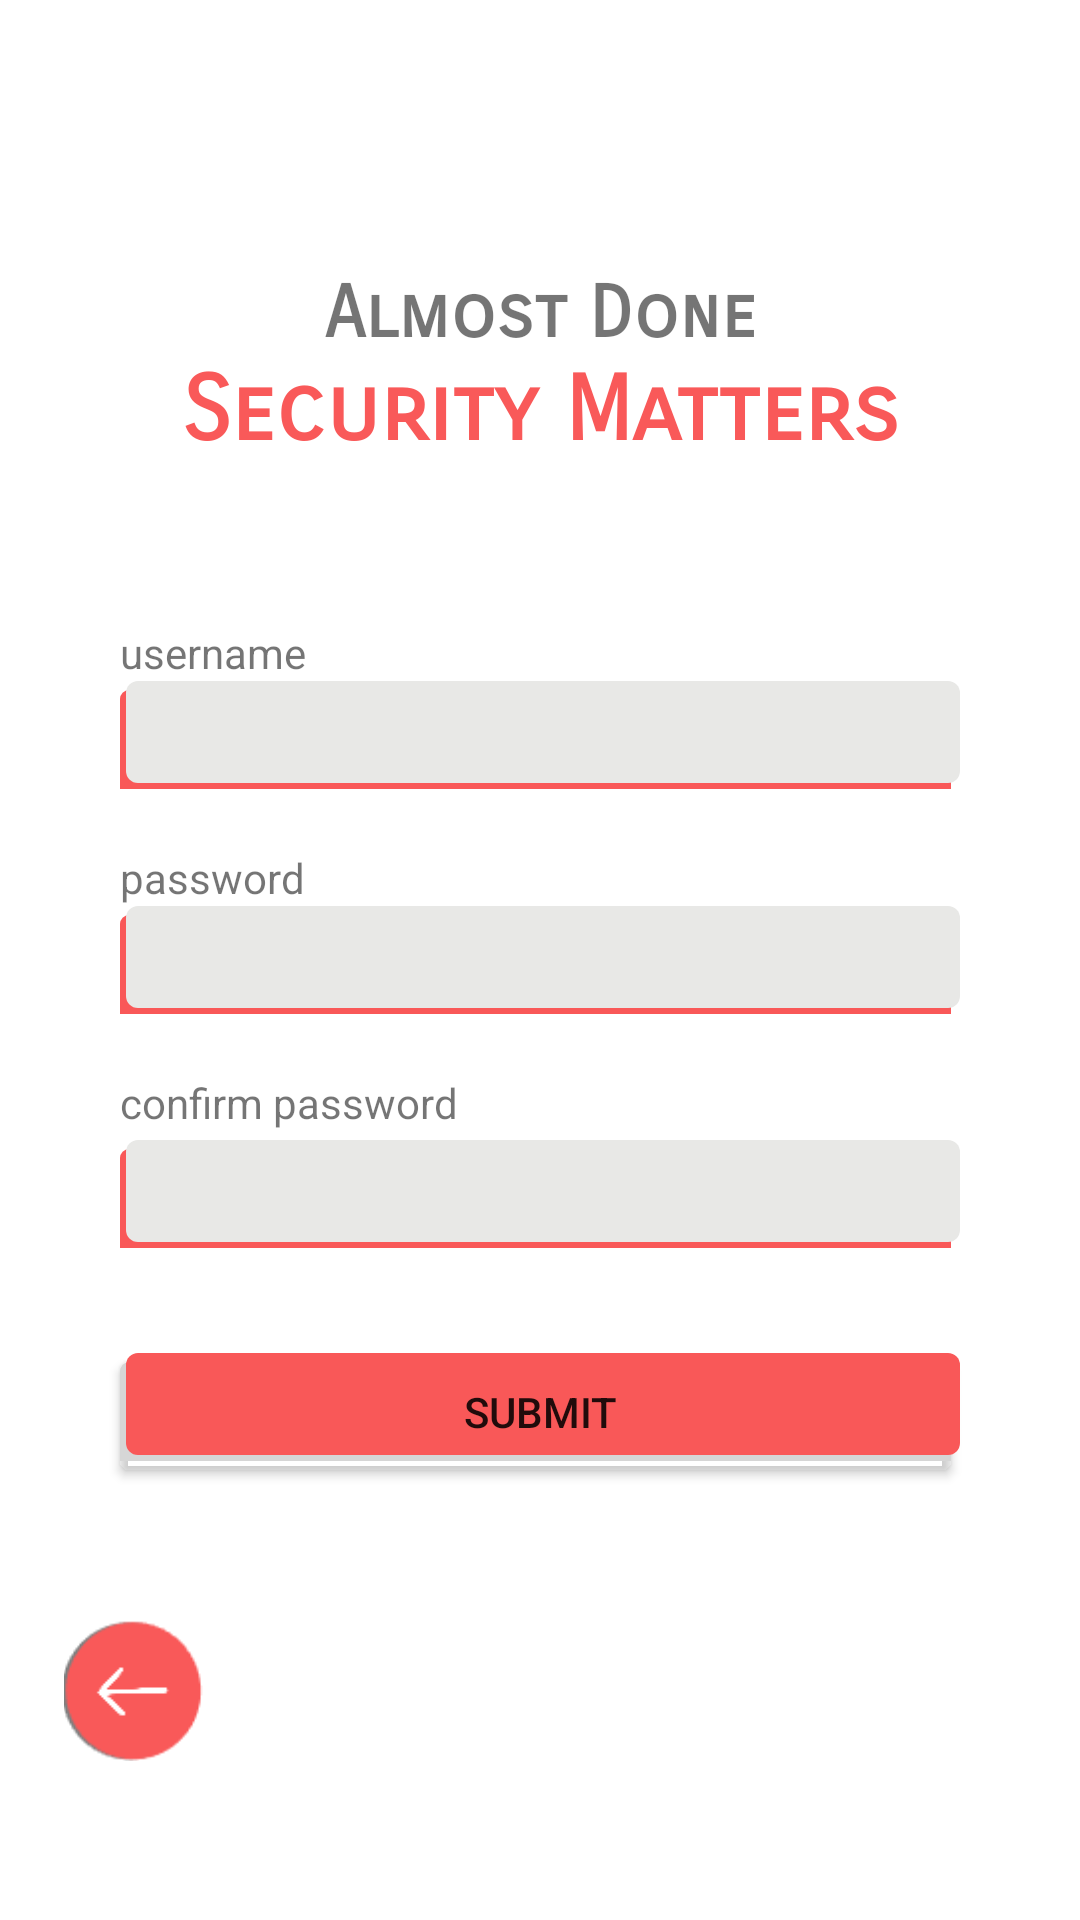

Where to tap for icons on this 1080*1920 app screen, as (x,y):
left arrow: (132,1691)
